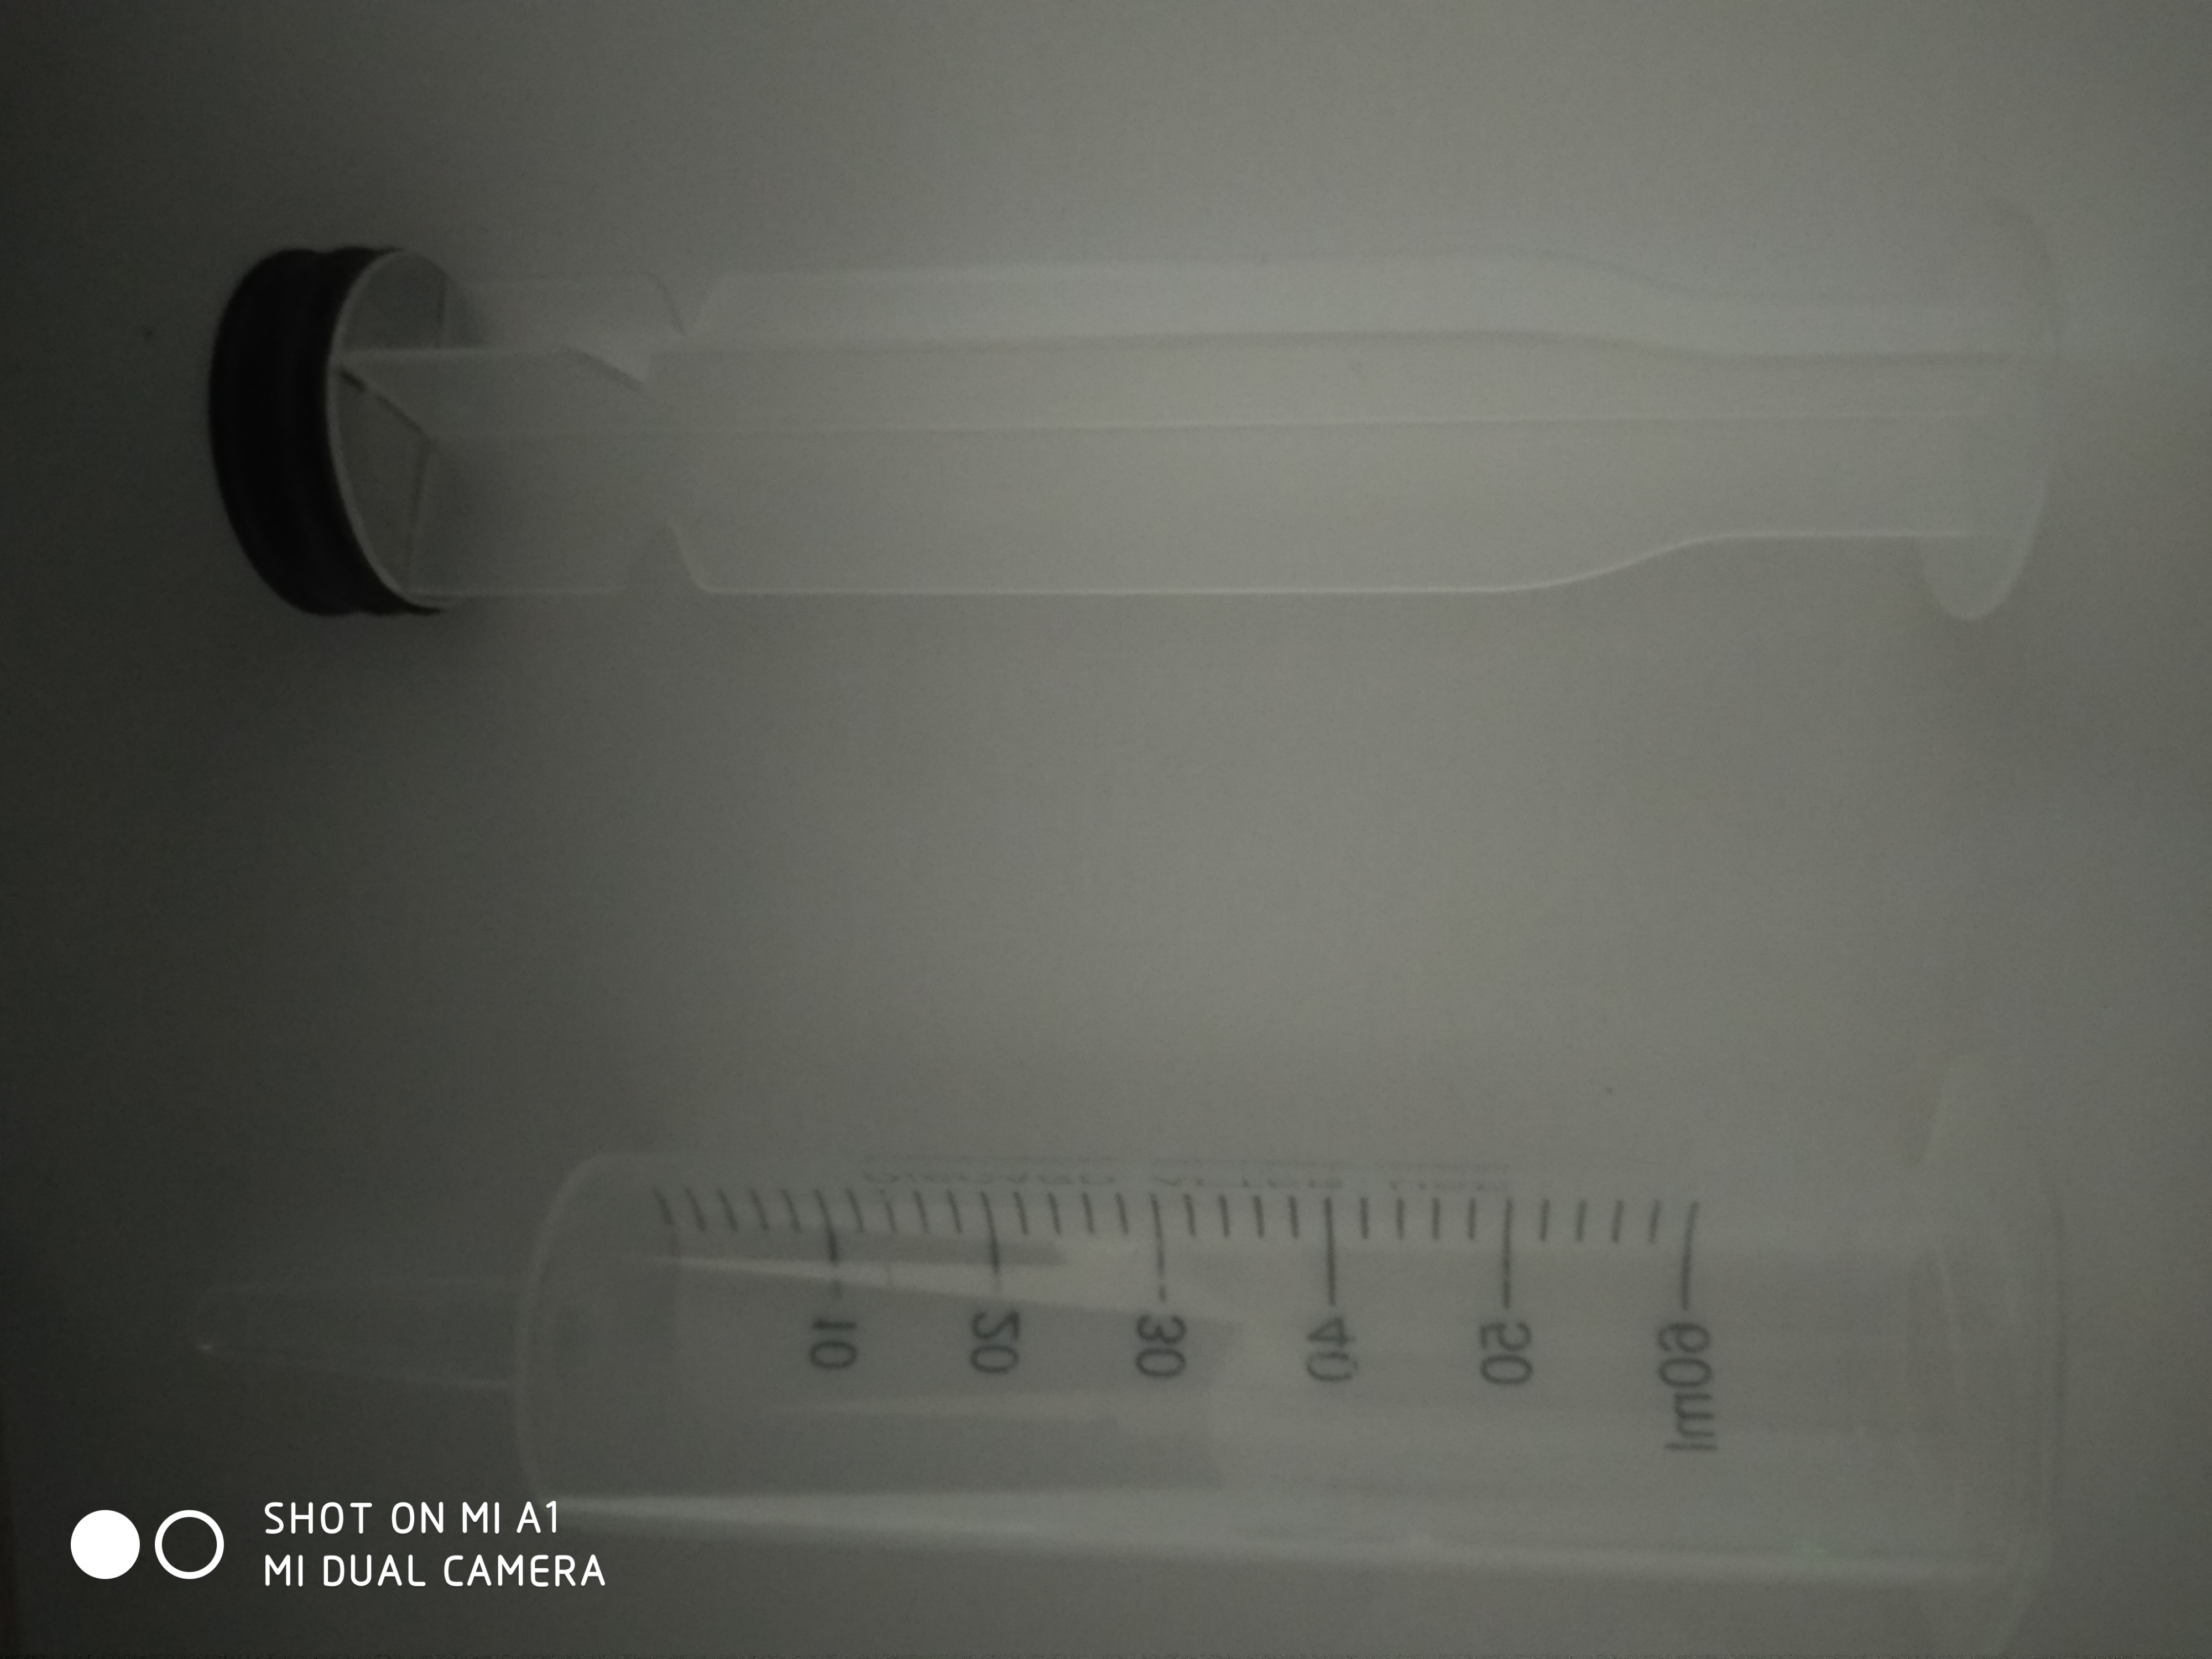plunger: (200, 199, 2090, 634)
syringe: (172, 1037, 2111, 1659)
